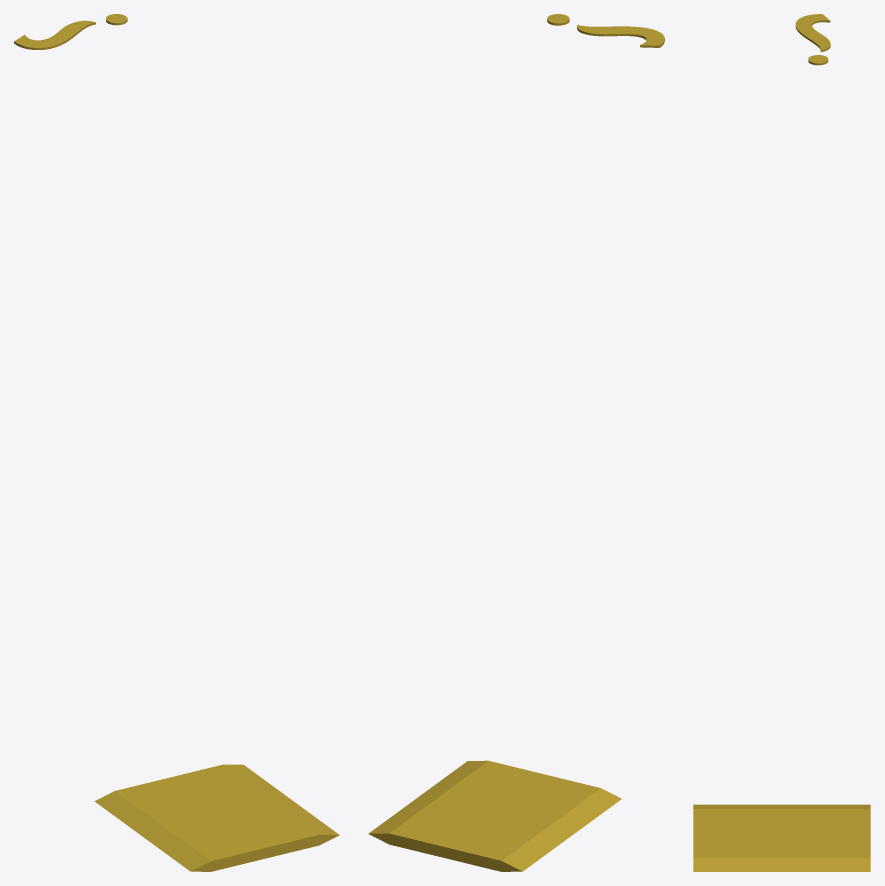
File: rot_hidden_switch.gltf
The picture shows the model from 3 angles, left to right: view 1: azimuth 30°, elevation 25°; view 2: azimuth 150°, elevation 25°; view 3: azimuth 270°, elevation 25°; orthographic projection. The views are drawn at different scales.
Parts seen in each view (by area): view 1: rot.hidden.switch; view 2: rot.hidden.switch; view 3: rot.hidden.switch.
Part boxes in pixels (x1,y1,x2,y2): rot.hidden.switch: (14, 14, 339, 871); rot.hidden.switch: (368, 14, 664, 871); rot.hidden.switch: (693, 14, 870, 871).
Bounding box in the file's own units: 12.51 × 37.87 × 8.14.
